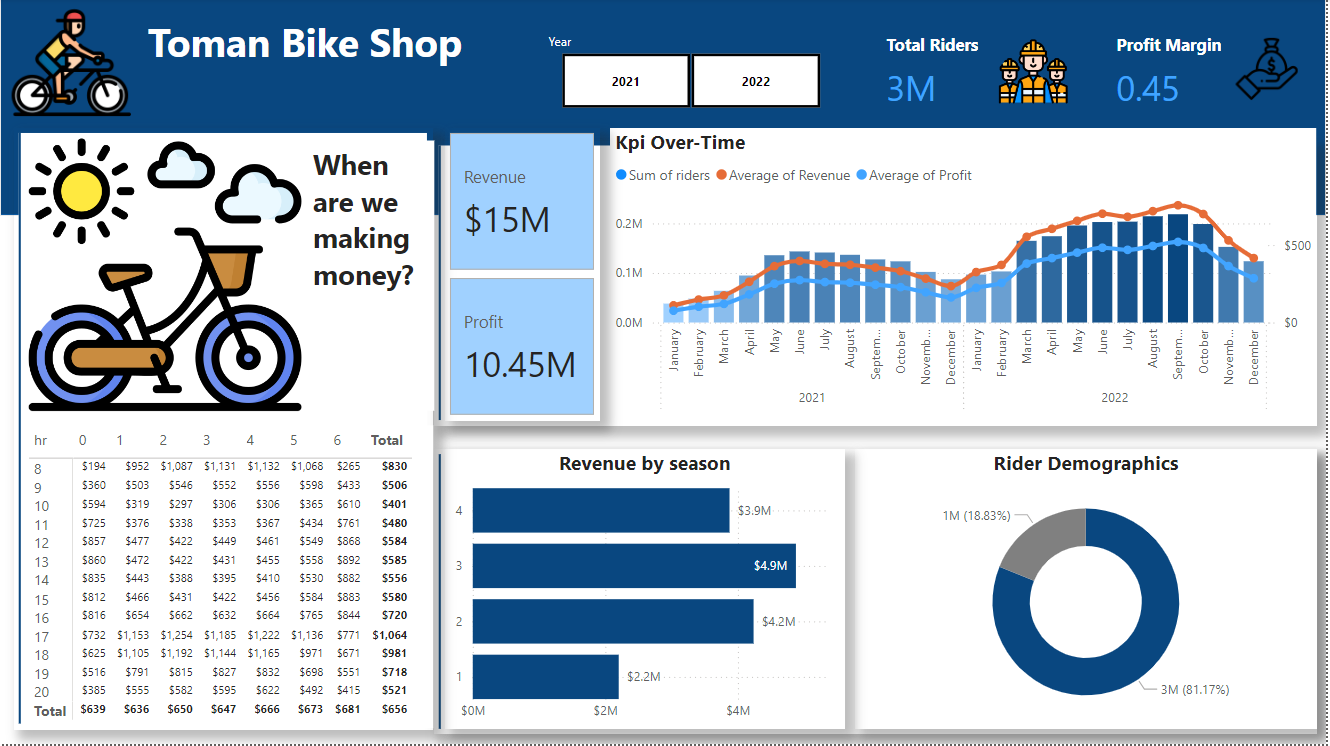

Layout of this report page (visuals, bound fields, positions):
{"tool":"powerbi","page":{"name":"Page 1","canvas":[1280,720],"ordinal":0},"visuals":[{"type":"shape","box":[0,0,1280.3,209.9],"z":0},{"type":"cardVisual","fields":{"Data":["Sum(Query11.Cogs)"]},"box":[418.5,137.2,852.1,275.8],"z":1000},{"type":"cardVisual","fields":{"Data":["Sum(Query11.Cogs)"]},"box":[418.5,435,852.1,275],"z":2000},{"type":"cardVisual","fields":{"Data":["Sum(Query11.Cogs)"]},"box":[13.7,124.9,404.8,580.4],"z":3000},{"type":"pivotTable","fields":{"Rows":["Query11.hr"],"Columns":["Query11.weekday"],"Values":["Avg(Query11.Revenue)"]},"box":[23.3,413,395.2,292.3],"z":4000},{"type":"donutChart","title":"Rider Demographics","fields":{"Category":["Query11.rider_type"],"Y":["Sum(Query11.riders)"]},"box":[824.7,435,446,270.3],"z":5000},{"type":"barChart","title":"Revenue by season","fields":{"Y":["Sum(Query11.Revenue)"],"Category":["Query11.season"]},"box":[429.5,435,385.6,270.3],"z":6000},{"type":"lineStackedColumnComboChart","title":"Kpi Over-Time","fields":{"Y":["Sum(Query11.riders)"],"Y2":["Avg(Query11.Revenue)","Avg(Query11.Profit)"],"Category":["Query11.dteday.Variation.Date Hierarchy.Year","Query11.dteday.Variation.Date Hierarchy.Month"]},"box":[588.7,124.9,682,282.7],"z":7000},{"type":"textbox","box":[296.4,137.2,122.1,260.7],"z":8000},{"type":"cardVisual","title":"Kpi Over-Time","fields":{"Data":["Sum(Query11.Revenue)","Sum(Query11.Profit)"]},"box":[429.5,124.9,149.6,282.7],"z":9000},{"type":"cardVisual","fields":{"Data":["Query11.revenue Margin"]},"box":[1060.7,16.5,209.9,96.1],"z":10000},{"type":"cardVisual","fields":{"Data":["Query11.Total Riders"]},"box":[838.4,16.5,209.9,96.1],"z":11000},{"type":"slicer","fields":{"Values":["Query11.Year"]},"box":[516,28.8,299.1,83.7],"z":12000},{"type":"textbox","box":[137.2,12.3,318.4,109.8],"z":13000},{"type":"image","box":[0,0,137.2,124.9],"z":14000},{"type":"image","box":[23.3,126.2,273.1,281.3],"z":15000}]}

Visuals, with their boxes in screenshot pixels (x1, y1, x2, y2), scaled from the page's 1280x720 canvas onto the 1330x746 screenshot:
shape: [x1=0, y1=0, x2=1329, y2=217]
cardVisual - Sum(Query11.Cogs): [x1=435, y1=142, x2=1320, y2=428]
cardVisual - Sum(Query11.Cogs): [x1=435, y1=451, x2=1320, y2=736]
cardVisual - Sum(Query11.Cogs): [x1=14, y1=129, x2=435, y2=731]
pivotTable - Query11.hr x Query11.weekday: [x1=24, y1=428, x2=435, y2=731]
"Rider Demographics" donutChart: [x1=857, y1=451, x2=1320, y2=731]
"Revenue by season" barChart: [x1=446, y1=451, x2=847, y2=731]
"Kpi Over-Time" lineStackedColumnComboChart: [x1=612, y1=129, x2=1320, y2=422]
textbox: [x1=308, y1=142, x2=435, y2=412]
"Kpi Over-Time" cardVisual: [x1=446, y1=129, x2=602, y2=422]
cardVisual - Query11.revenue Margin: [x1=1102, y1=17, x2=1320, y2=117]
cardVisual - Query11.Total Riders: [x1=871, y1=17, x2=1089, y2=117]
slicer - Query11.Year: [x1=536, y1=30, x2=847, y2=117]
textbox: [x1=143, y1=13, x2=473, y2=127]
image: [x1=0, y1=0, x2=143, y2=129]
image: [x1=24, y1=131, x2=308, y2=422]
